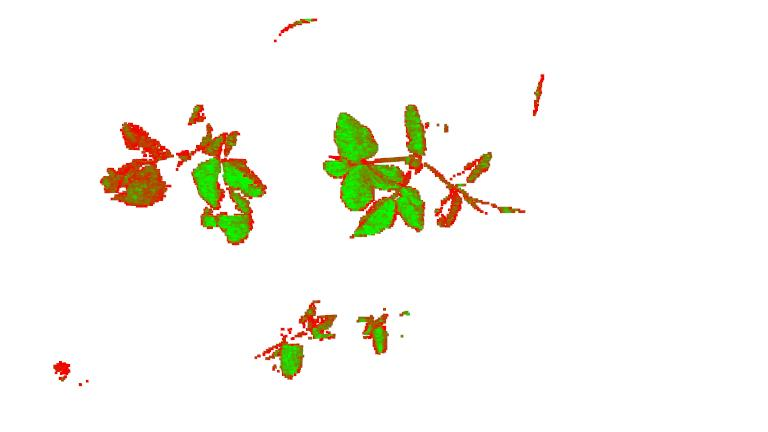mungbean: (321, 97, 531, 241), (97, 101, 273, 247), (252, 298, 340, 383), (356, 300, 433, 364)
